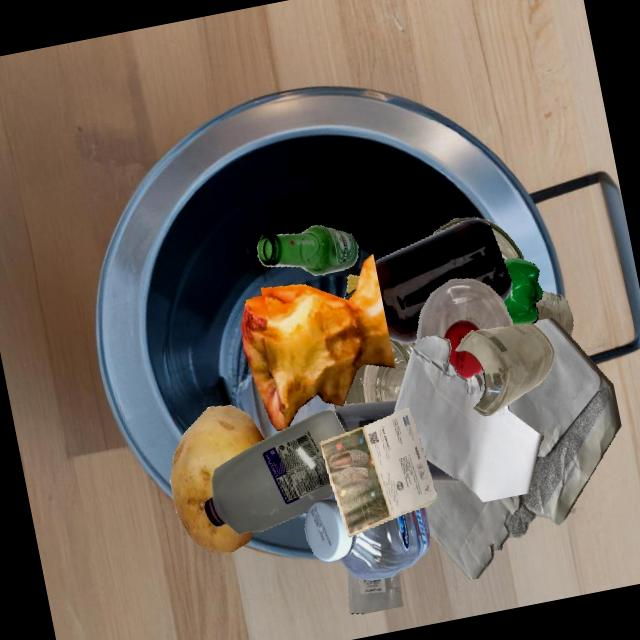biowaste: (241, 254, 395, 430), (170, 405, 264, 552)
cardboard: (344, 275, 360, 299)
glass: (375, 218, 512, 343), (456, 323, 554, 416), (458, 223, 535, 324), (257, 225, 358, 275), (343, 339, 418, 405), (455, 217, 524, 260), (535, 291, 573, 337)
paper: (425, 317, 621, 580), (393, 335, 544, 503), (320, 408, 438, 537)
plastic: (204, 410, 345, 535), (305, 490, 430, 580), (417, 279, 513, 393), (503, 257, 543, 326), (348, 569, 403, 614), (333, 401, 397, 433), (426, 459, 462, 482)
